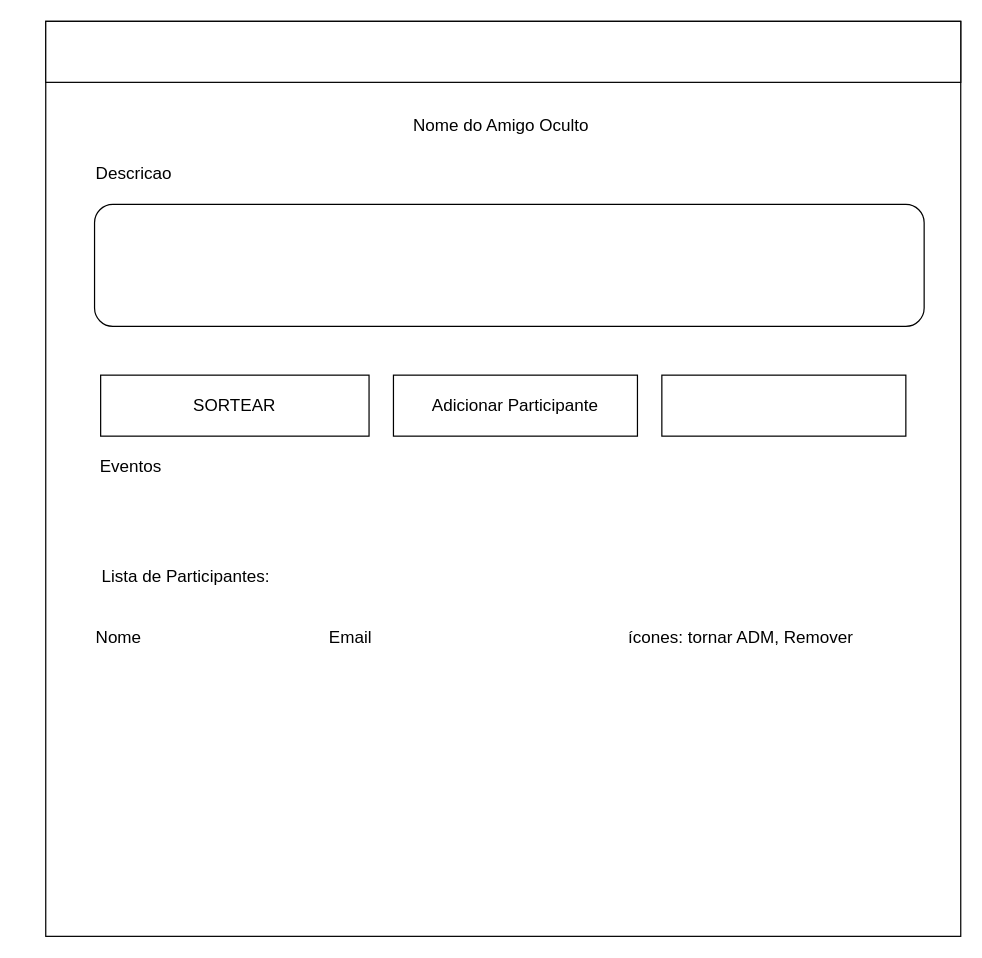
Some shapes in this 982 by 958 pixel diagram are drawn without their labels. The shapes that lost their labels are listed below. From the top down, each one's centre as x and y in pixels, then its label:
At [503,51]: "Log out".
At [508,264]: "Texto descição".
